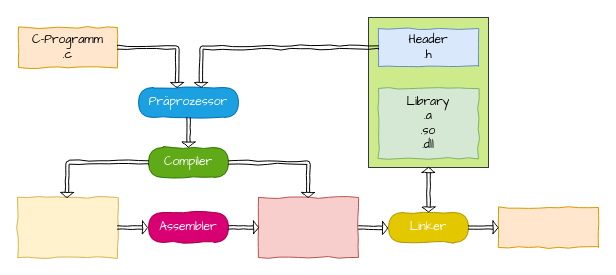
Some shapes in this 616 by 275 pixel diagram are drawn without their labels. Each missing label, with the centre of its shape:
Assembler-Prog. .s .asm: the point at 67,227
Binary/Programm .exe: the point at 548,227
Objekt-Datei .o .obj: the point at 308,227
